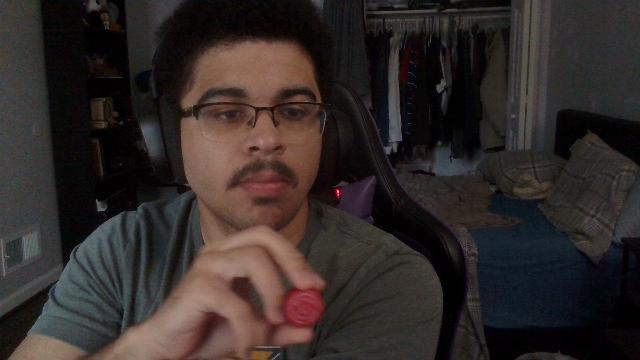cap: (284, 288, 324, 328)
